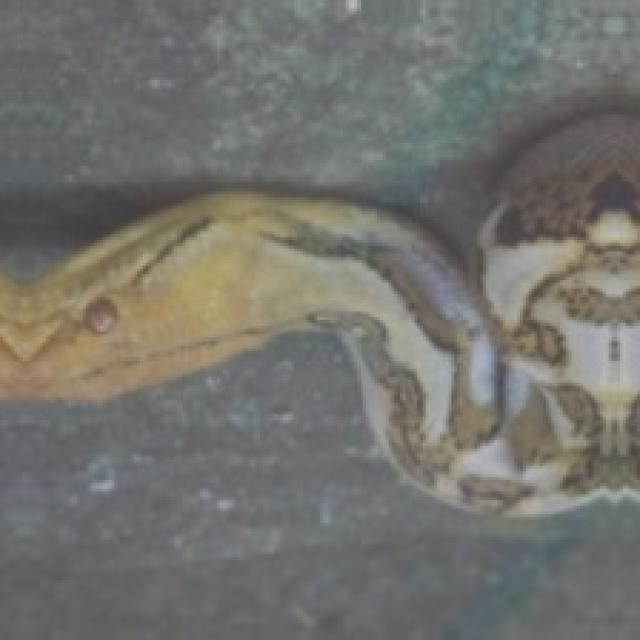reticulated python: (0, 114, 637, 511)
